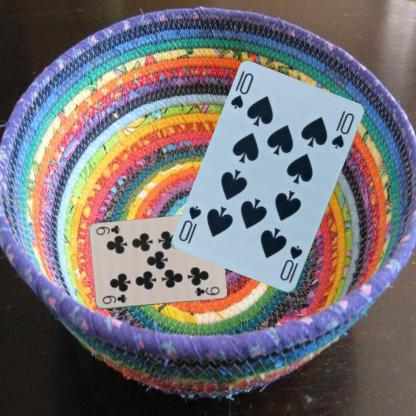10s: (228, 70, 256, 111), (277, 242, 304, 283)
9c: (99, 291, 128, 306)
